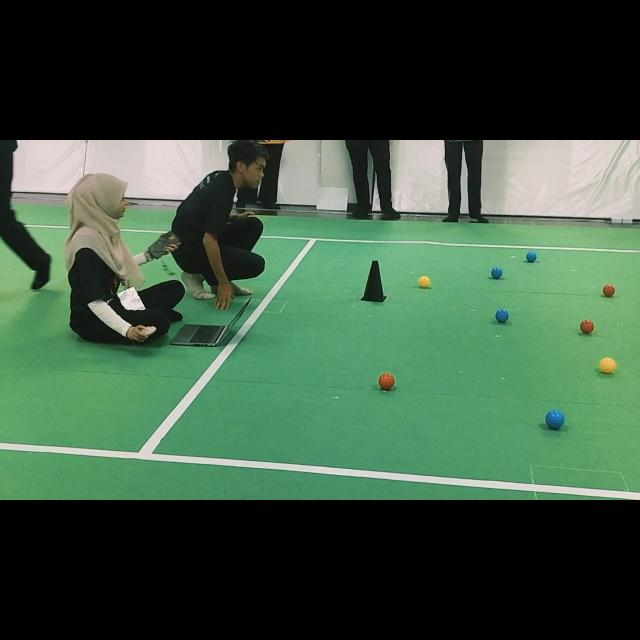ball: (545, 410, 565, 429), (379, 372, 396, 390), (599, 358, 616, 374), (580, 320, 595, 334), (495, 309, 509, 322), (602, 284, 615, 298), (418, 275, 431, 289), (491, 266, 502, 279), (526, 251, 538, 262)
